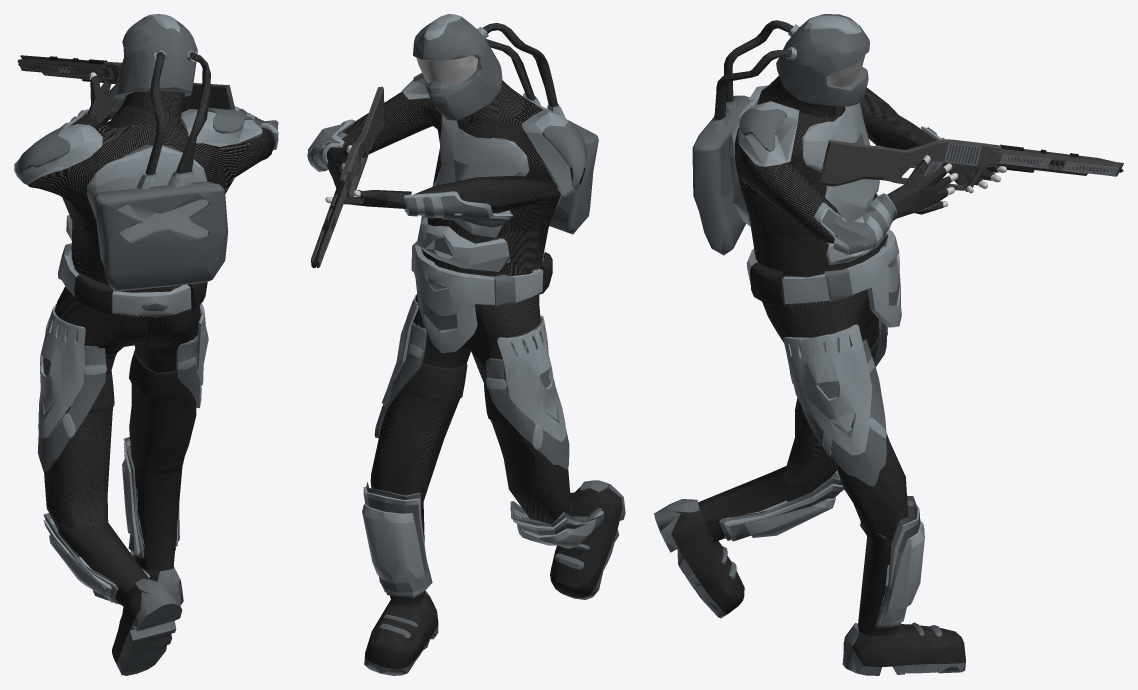
The picture shows the model from 3 angles, left to right: view 1: azimuth 30°, elevation 25°; view 2: azimuth 150°, elevation 25°; view 3: azimuth 270°, elevation 25°; orthographic projection. The views are drawn at different scales.
Parts seen in each view (by area): view 1: personaje:extrudedSurface2 polySurface82, personaje:PANTALON polySurface82, personaje:bota1 polySurface82, personaje:CAMISETABUENA polySurface82, personaje:pPipe4 polySurface82, personaje:pCube4 polySurface82, personaje:cosoarmdaurapierna1 polySurface82, personaje:cinturon polySurface82, escopeta:Cylinder001 polySurface82, personaje:armadbota1 polySurface82, personaje:polySurface6 polySurface82, personaje:HOMBRO2 polySurface82 (+3 smaller); view 2: personaje:PANTALON polySurface82, personaje:CAMISETABUENA polySurface82, personaje:pPipe4 polySurface82, personaje:bota1 polySurface82, personaje:extrudedSurface2 polySurface82, personaje:cinturon polySurface82, personaje:pCube4 polySurface82, personaje:armadbota1 polySurface82, personaje:cosoarmdaurapierna1 polySurface82, escopeta:Cylinder001 polySurface82, personaje:polySurface6 polySurface82, personaje:polySurface2 polySurface82 (+6 smaller); view 3: personaje:bota1 polySurface82, personaje:CAMISETABUENA polySurface82, personaje:extrudedSurface2 polySurface82, personaje:pPipe4 polySurface82, personaje:pCube4 polySurface82, personaje:PANTALON polySurface82, escopeta:Cylinder001 polySurface82, personaje:cinturon polySurface82, personaje:armadbota1 polySurface82, personaje:cosoarmadurapierna2 polySurface82, personaje:hombro1 polySurface82, personaje:partearmdBRAZO2 polySurface82 (+1 smaller).
Boxes of the visible parts, x1,y1,x2,y2 form: personaje:extrudedSurface2 polySurface82: (94,14,228,291); personaje:PANTALON polySurface82: (44,267,200,558); personaje:bota1 polySurface82: (58,458,184,675); personaje:CAMISETABUENA polySurface82: (25,90,274,317); personaje:pPipe4 polySurface82: (14,75,278,240); personaje:pCube4 polySurface82: (37,287,208,603); personaje:cosoarmdaurapierna1 polySurface82: (38,304,106,438); personaje:cinturon polySurface82: (58,242,207,315); escopeta:Cylinder001 polySurface82: (17,55,235,112); personaje:armadbota1 polySurface82: (43,440,178,602); personaje:polySurface6 polySurface82: (88,349,189,412); personaje:HOMBRO2 polySurface82: (15,126,70,174); personaje:PANTALON polySurface82: (370,263,572,524); personaje:CAMISETABUENA polySurface82: (324,57,585,304); personaje:pPipe4 polySurface82: (308,77,579,271); personaje:bota1 polySurface82: (364,480,625,675); personaje:extrudedSurface2 polySurface82: (413,14,598,234); personaje:cinturon polySurface82: (411,235,552,353); personaje:pCube4 polySurface82: (363,295,604,598); personaje:armadbota1 polySurface82: (362,487,603,595); personaje:cosoarmdaurapierna1 polySurface82: (486,315,566,450); escopeta:Cylinder001 polySurface82: (310,86,385,267); personaje:polySurface6 polySurface82: (402,363,512,426); personaje:polySurface2 polySurface82: (407,195,509,227); personaje:bota1 polySurface82: (654,466,965,675); personaje:CAMISETABUENA polySurface82: (734,76,936,305); personaje:extrudedSurface2 polySurface82: (692,14,869,255); personaje:pPipe4 polySurface82: (727,85,998,264); personaje:pCube4 polySurface82: (719,321,920,627); personaje:PANTALON polySurface82: (762,245,907,564); escopeta:Cylinder001 polySurface82: (819,139,1123,190); personaje:cinturon polySurface82: (746,229,901,327); personaje:armadbota1 polySurface82: (723,470,924,625); personaje:cosoarmadurapierna2 polySurface82: (787,339,886,486); personaje:hombro1 polySurface82: (739,108,786,151); personaje:partearmdBRAZO2 polySurface82: (814,193,897,255).
Size of the model in its own units: 4.23 by 9.51 by 6.21.
